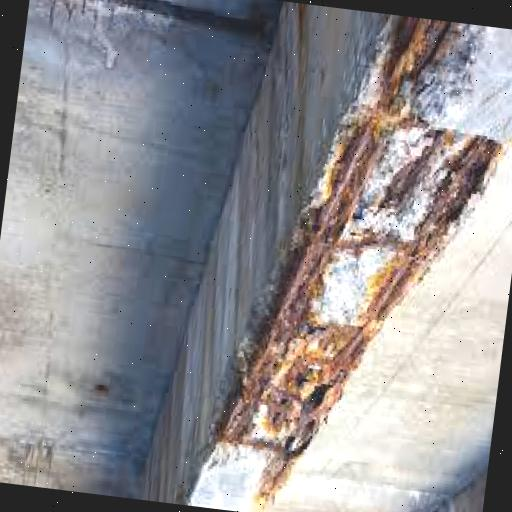spalling: (206, 16, 504, 508)
